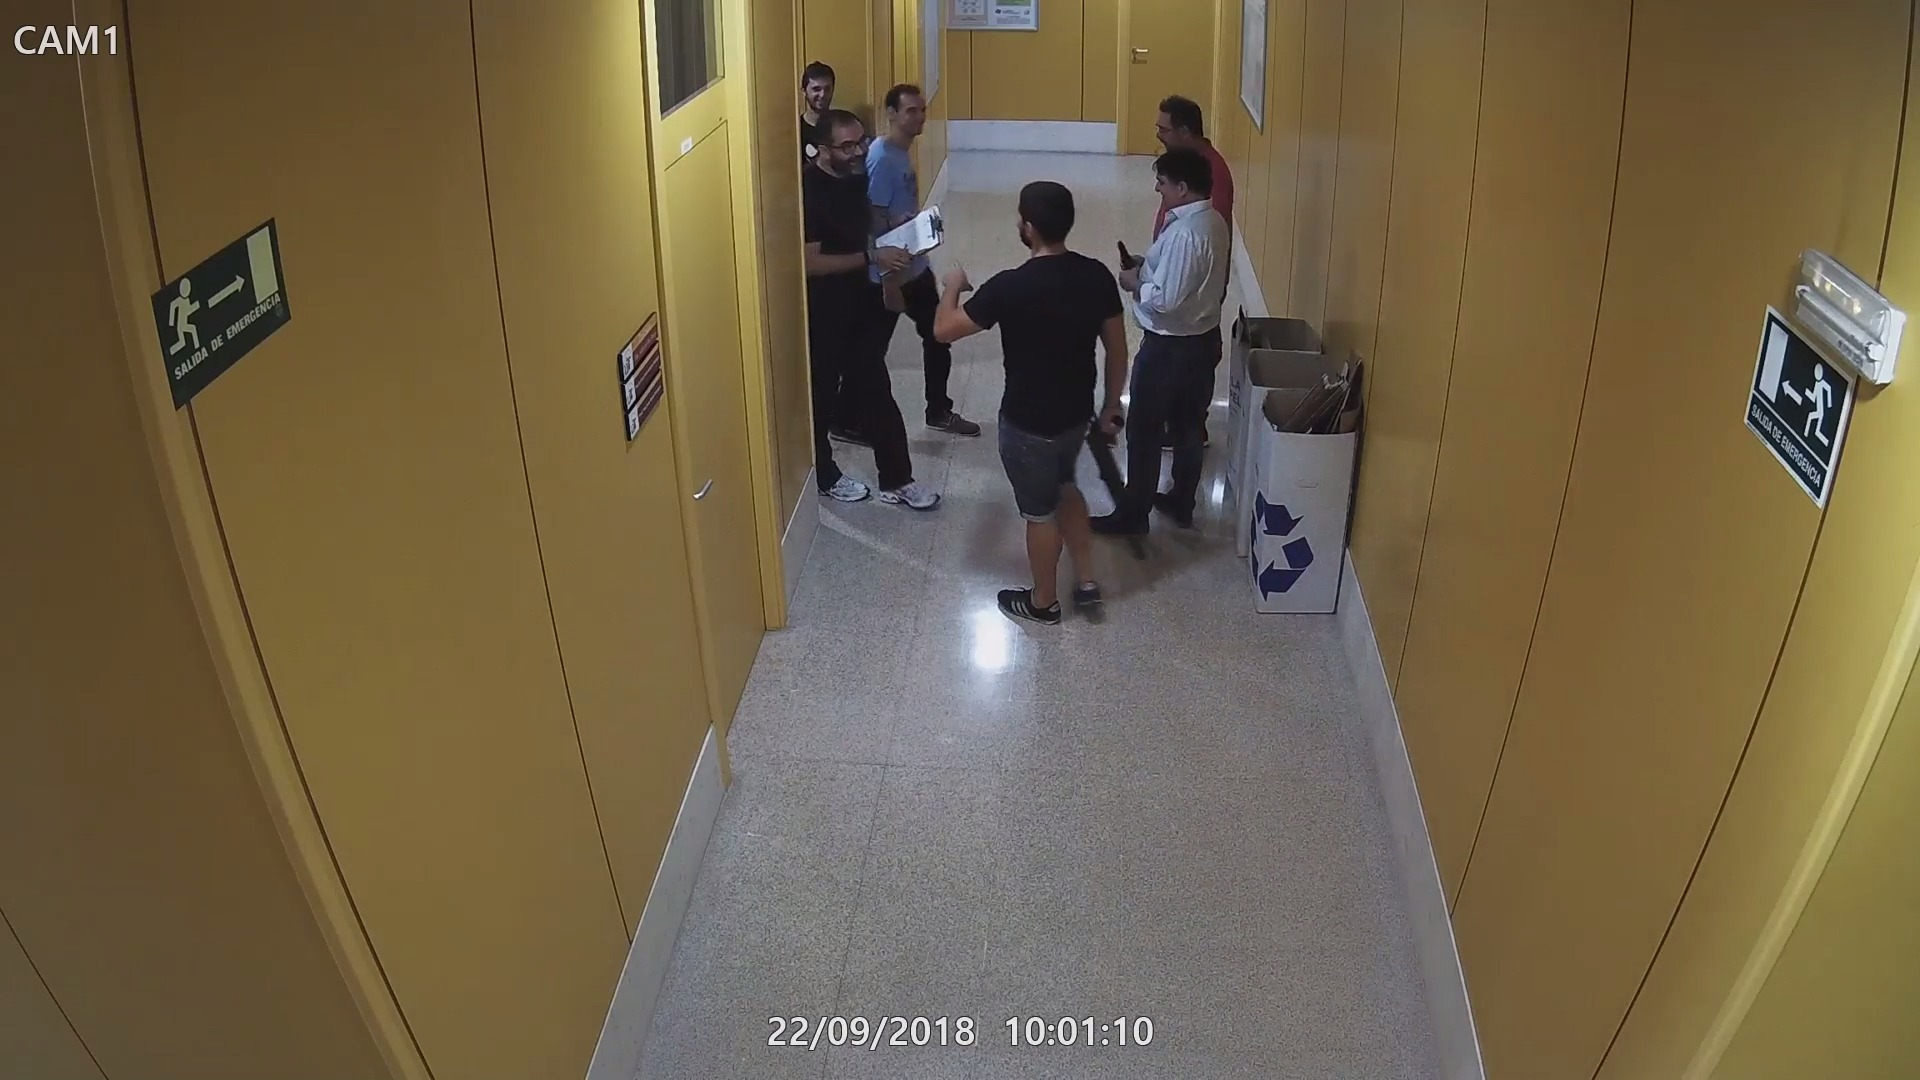Handgun: (1113, 239, 1142, 290)
Short_rifle: (1084, 407, 1146, 560)
